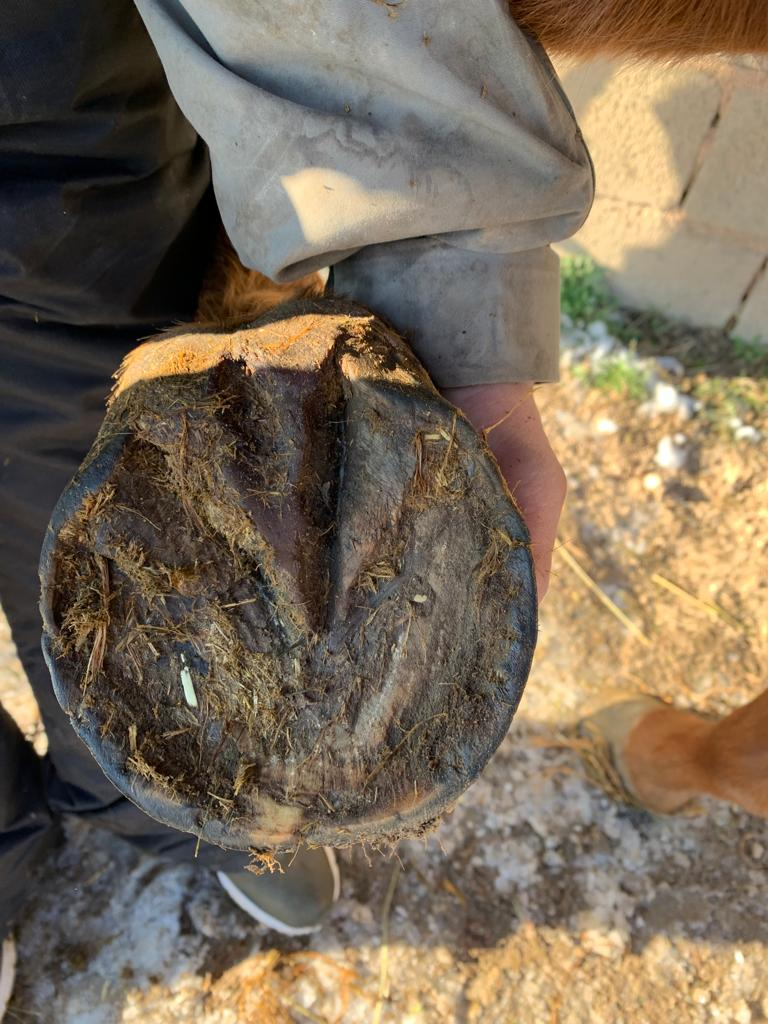horsesole: (40, 354, 538, 854)
